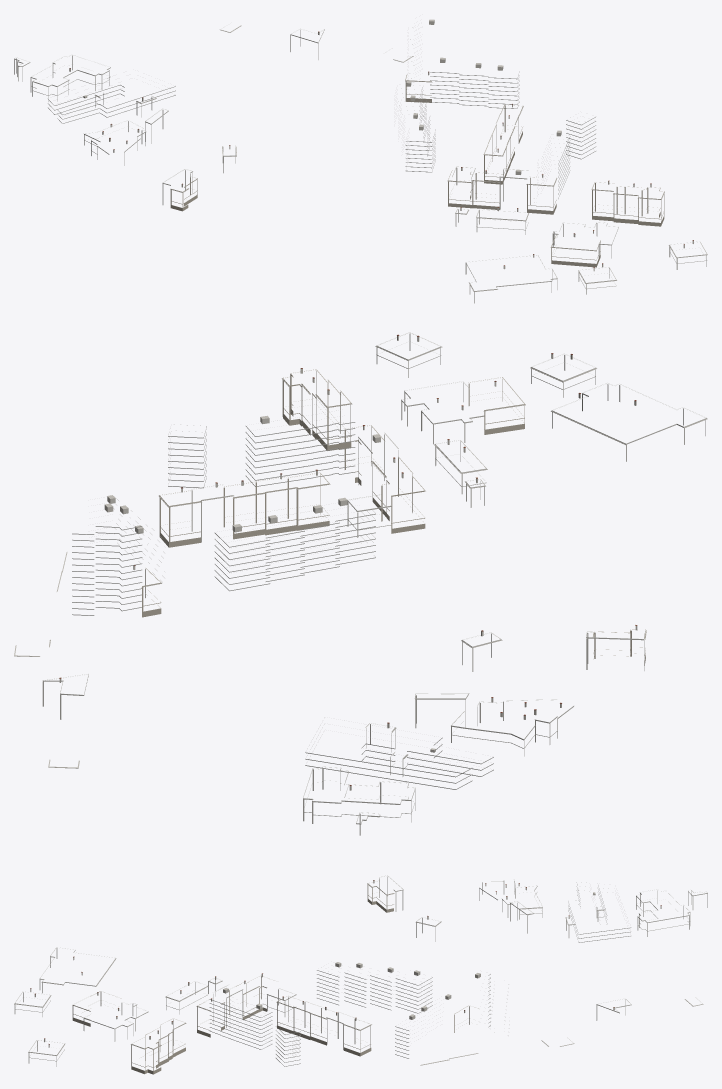
3 renders of one model, top to bottom at view 1: azimuth 30°, elevation 25°; view 2: azimuth 150°, elevation 25°; view 3: azimuth 270°, elevation 25°, orthographic. The views are drawn at different scales.
Parts seen in each view (by area): view 1: detail; view 2: detail; view 3: detail.
Part boxes in pixels (x1,y1,x2,y2): detail: (14, 19, 707, 303); detail: (14, 332, 707, 835); detail: (14, 875, 707, 1074).
Bounding box in the file's own units: 302 × 61.17 × 509.
